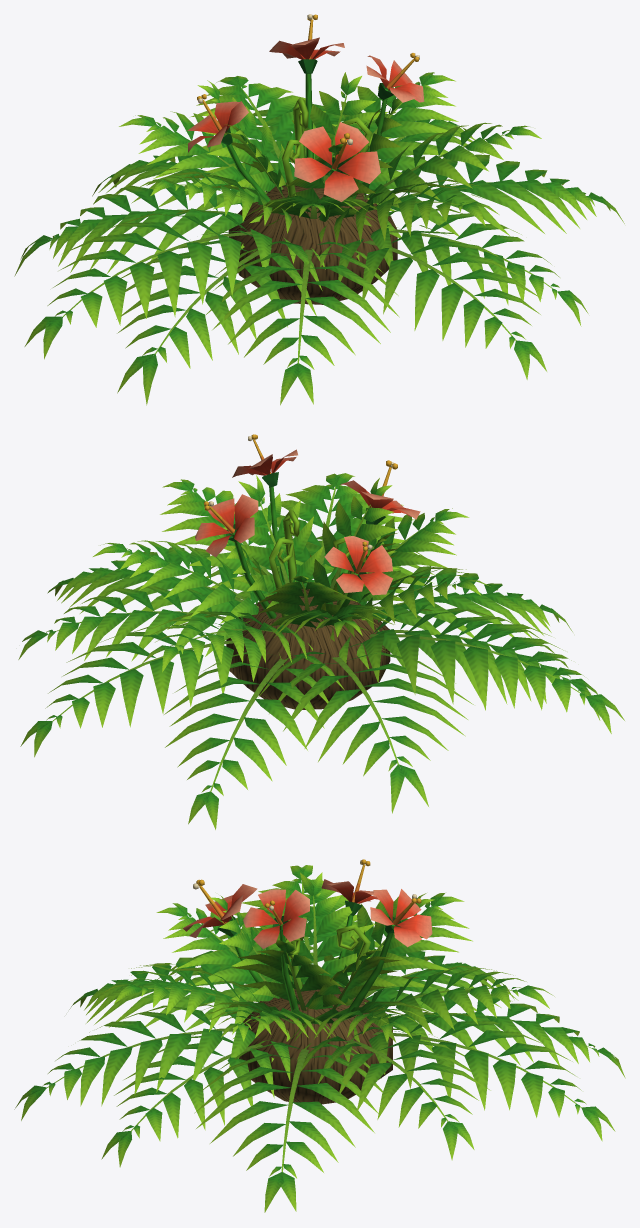
File: bush_fern.glb
The picture shows the model from 3 angles, top to bottom: view 1: azimuth 30°, elevation 25°; view 2: azimuth 150°, elevation 25°; view 3: azimuth 270°, elevation 25°; orthographic projection. The views are drawn at different scales.
Visible parts, largest first — view 1: BushFern; view 2: BushFern; view 3: BushFern.
Boxes of the visible parts, x1,y1,x2,y2 form: BushFern: (14, 14, 624, 405); BushFern: (18, 434, 624, 829); BushFern: (14, 859, 625, 1212).
Bounding box in the file's own units: 2.89 × 1.14 × 2.69.
Materials: 3 (3 with a texture image).
